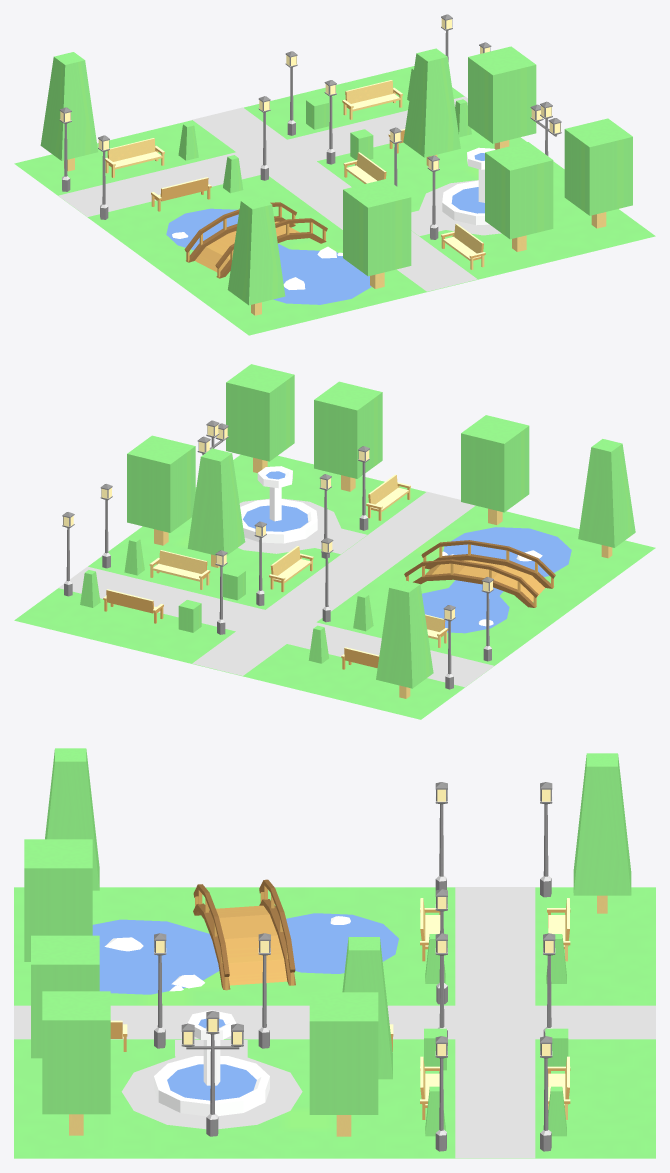
File: park.008.glb
3 renders of one model, top to bottom at view 1: azimuth 30°, elevation 25°; view 2: azimuth 150°, elevation 25°; view 3: azimuth 270°, elevation 25°, orthographic. The views are drawn at different scales.
Visible parts, largest first — view 1: park.008(Clone); view 2: park.008(Clone); view 3: park.008(Clone).
Boxes of the visible parts, x1,y1,x2,y2 form: park.008(Clone): (14, 14, 655, 335); park.008(Clone): (14, 364, 655, 719); park.008(Clone): (14, 748, 655, 1158).
Size of the model in its own units: 16 by 4.7 by 16.
1 material, 1 textured.
